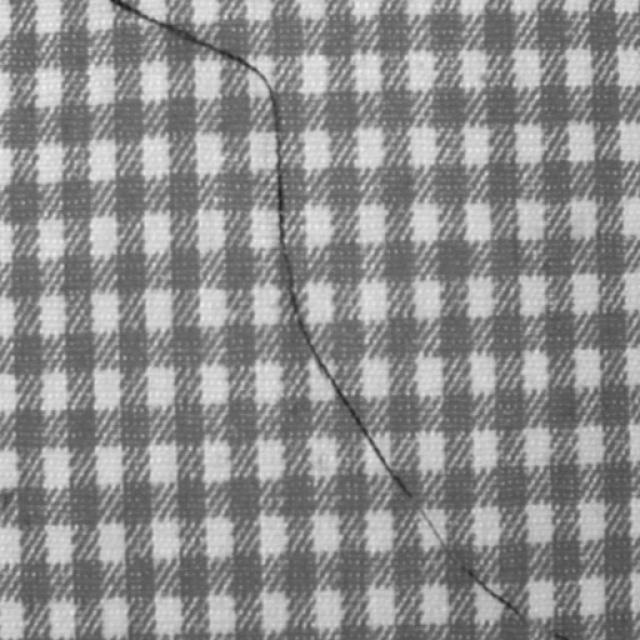Foreign-Body-Defect: (110, 0, 524, 624)
